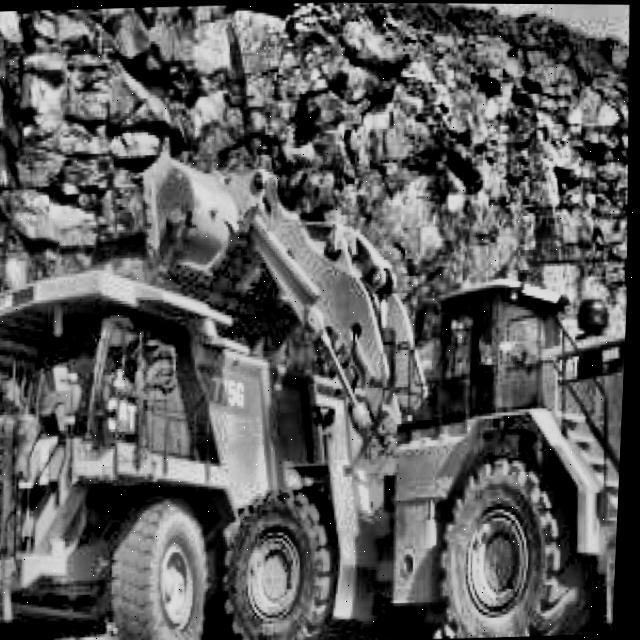buldozerpayloadergrader: (118, 112, 636, 640)
dump_truck: (0, 248, 299, 640)
